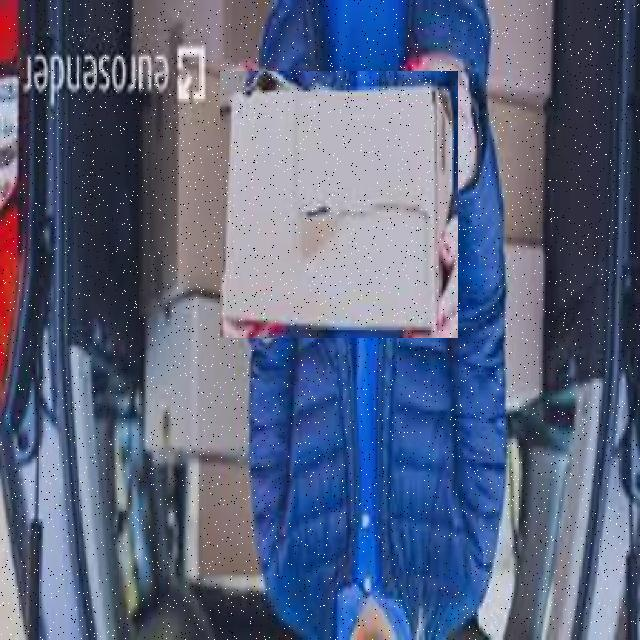defect: (220, 71, 458, 338)
